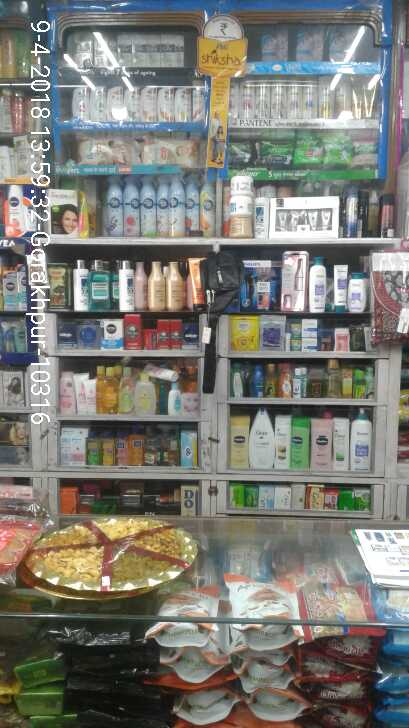ambipureVesus: (102, 175, 125, 237), (140, 175, 158, 237), (185, 175, 200, 238), (200, 175, 215, 237), (170, 175, 185, 237), (125, 175, 140, 237), (158, 175, 170, 237)
venus: (262, 23, 289, 62), (295, 23, 324, 59), (329, 24, 356, 61)
